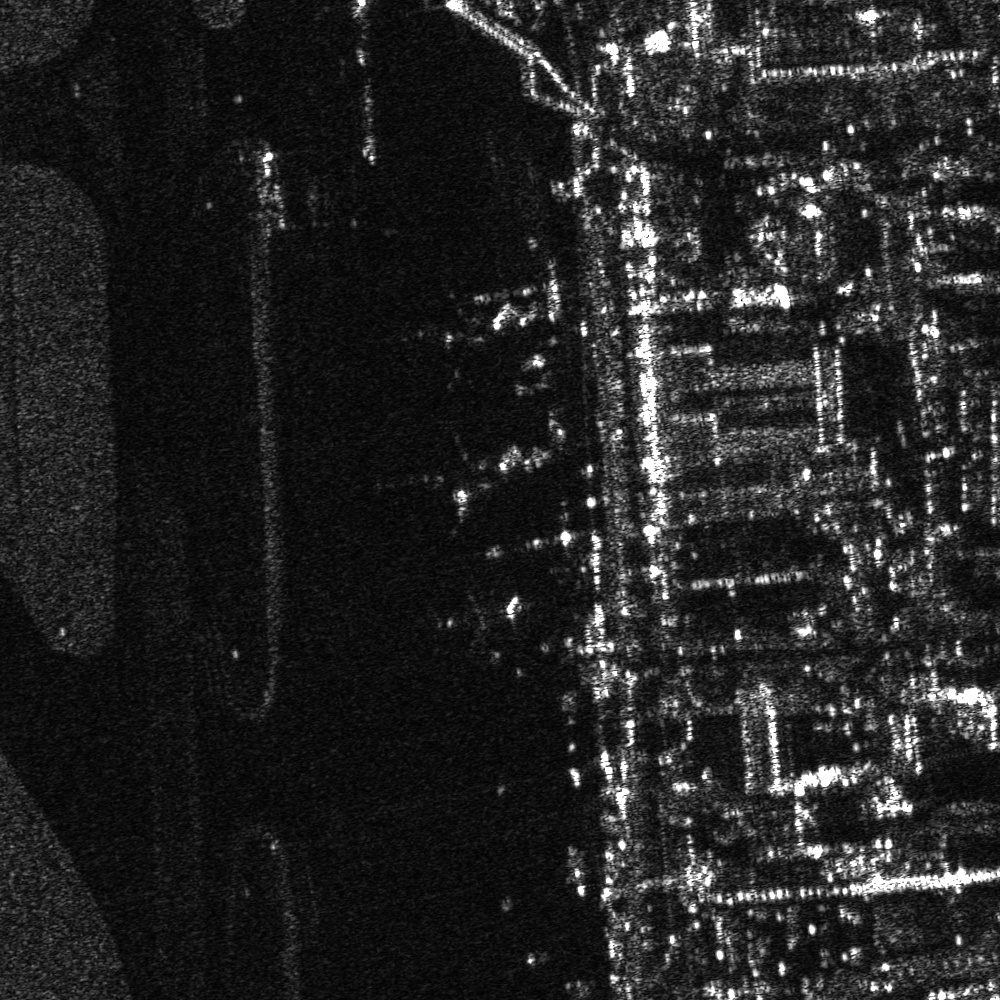ARJ21: (364, 416, 522, 538)
other: (390, 287, 515, 398), (430, 583, 529, 665)
